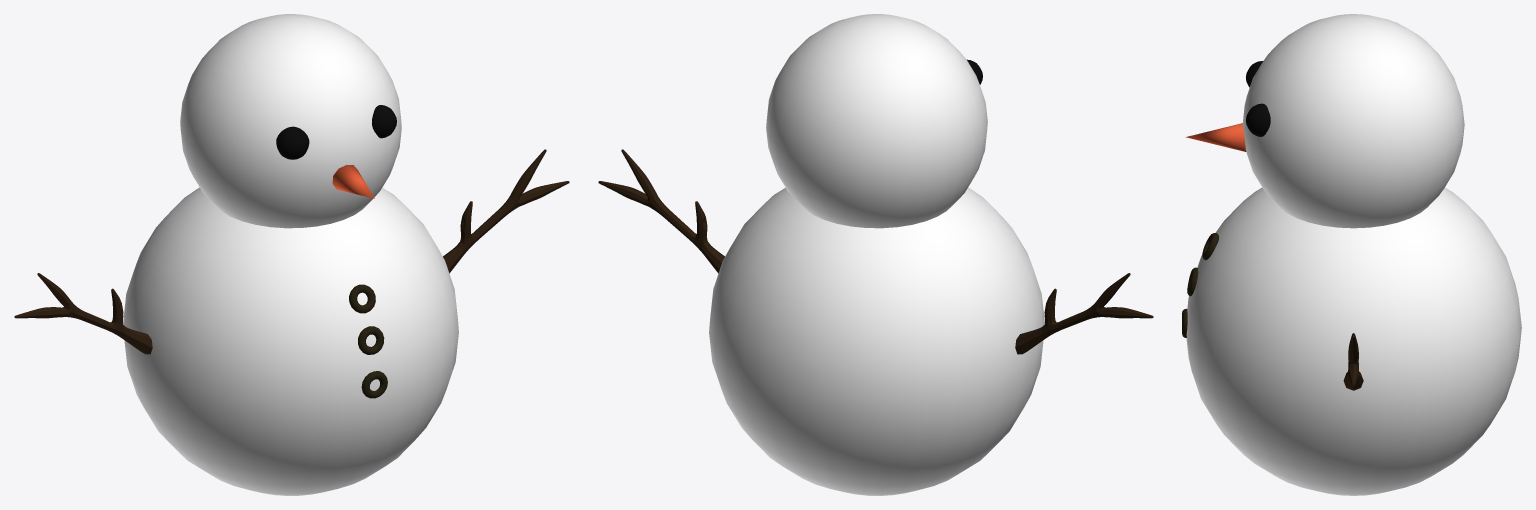
Rendered from snowman-transformed.glb.
3 views of the same model, side by side, from view 1: azimuth 30°, elevation 25°; view 2: azimuth 150°, elevation 25°; view 3: azimuth 270°, elevation 25° (orthographic).
Parts seen in each view (by area): view 1: body, left_eye, nose; view 2: body; view 3: body, nose, left_eye.
Boxes of the visible parts, x1,y1,x2,y2 form: body: (14,14,569,495); left_eye: (276,105,396,159); nose: (332,165,374,198); body: (598,14,1153,495); body: (1182,14,1521,495); nose: (1185,123,1246,151); left_eye: (1246,61,1270,136).
Size of the model in its own units: 3.81 by 2.99 by 2.02.
3 materials, 3 textured.
